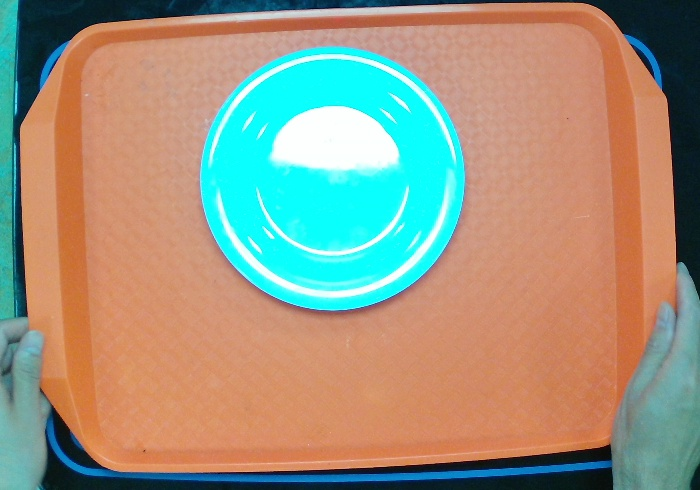RJxy-Yuan_Pan: (199, 42, 464, 315)
